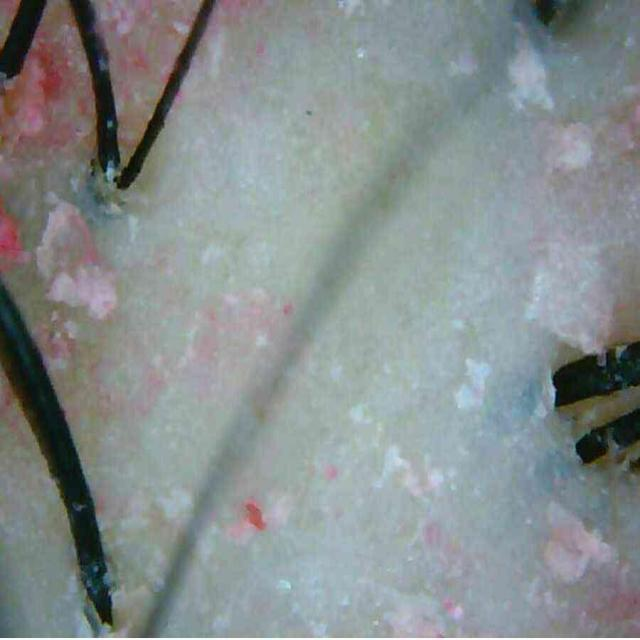d: (527, 237, 619, 368), (36, 202, 116, 319), (544, 502, 615, 582), (370, 440, 445, 502), (509, 40, 554, 110), (35, 310, 79, 371), (455, 358, 490, 410), (555, 123, 591, 170), (449, 48, 478, 77), (542, 367, 556, 413), (534, 402, 548, 419)
s: (178, 283, 300, 385), (0, 28, 74, 167), (93, 0, 156, 77), (586, 575, 640, 629), (0, 194, 30, 264), (412, 512, 448, 557), (160, 12, 192, 48), (245, 502, 266, 531), (442, 599, 464, 619), (324, 464, 339, 481)
